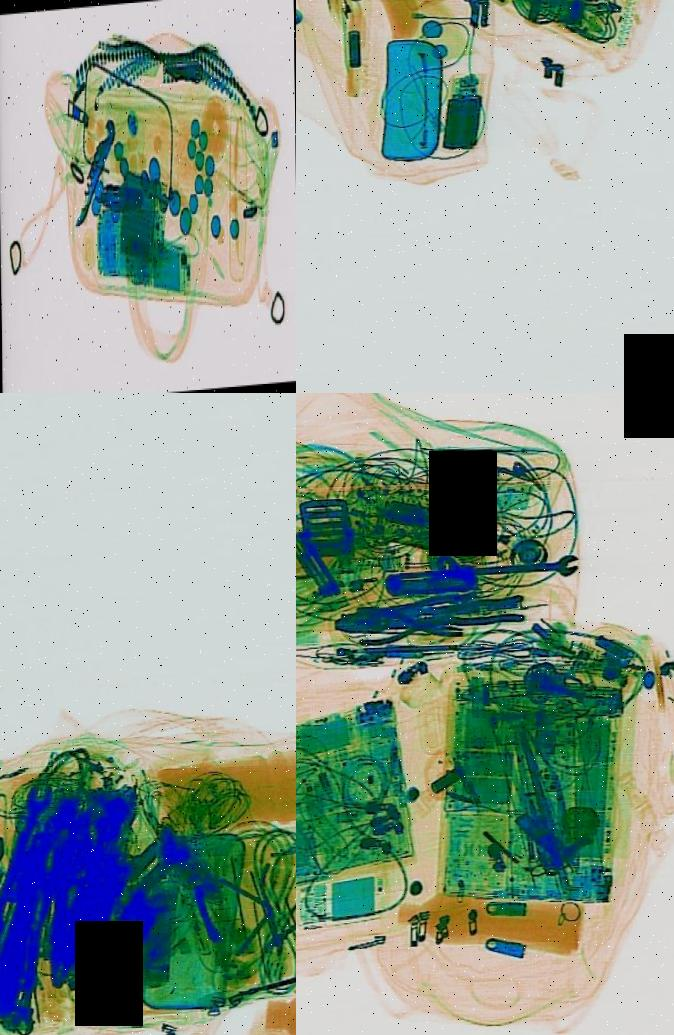Knife: (68, 113, 120, 227)
Pliers: (243, 827, 296, 990), (350, 582, 478, 638)
Wrench: (0, 770, 57, 983), (438, 550, 576, 584)
